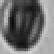correct: (0, 0, 46, 51)
